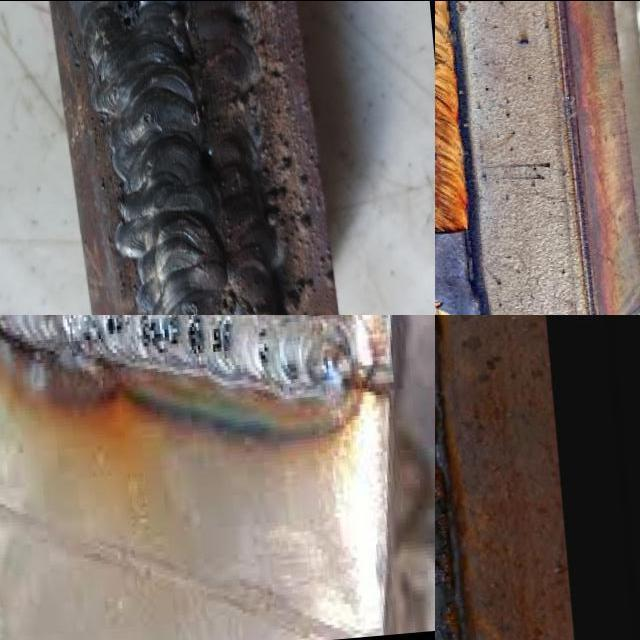defect: (135, 314, 183, 360), (110, 0, 144, 35), (208, 314, 235, 356), (183, 314, 206, 362), (254, 326, 271, 369), (215, 287, 240, 314), (104, 314, 127, 340), (139, 106, 157, 126), (179, 299, 200, 314)
